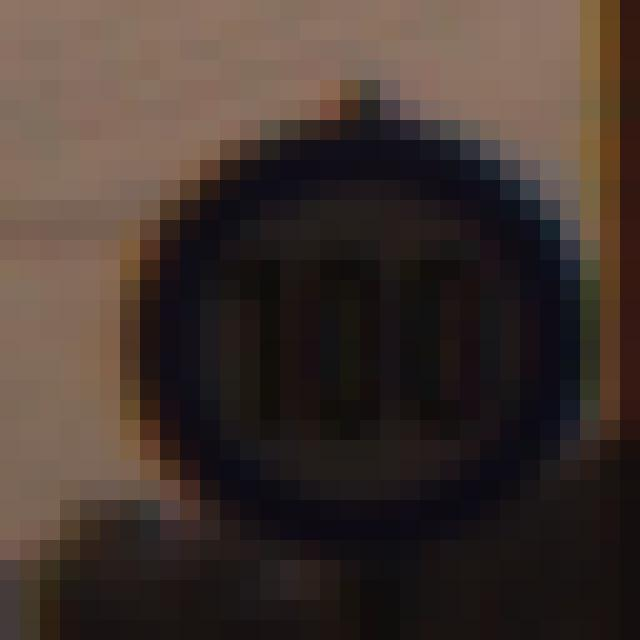SPEED LIMIT 100: (126, 115, 584, 535)
